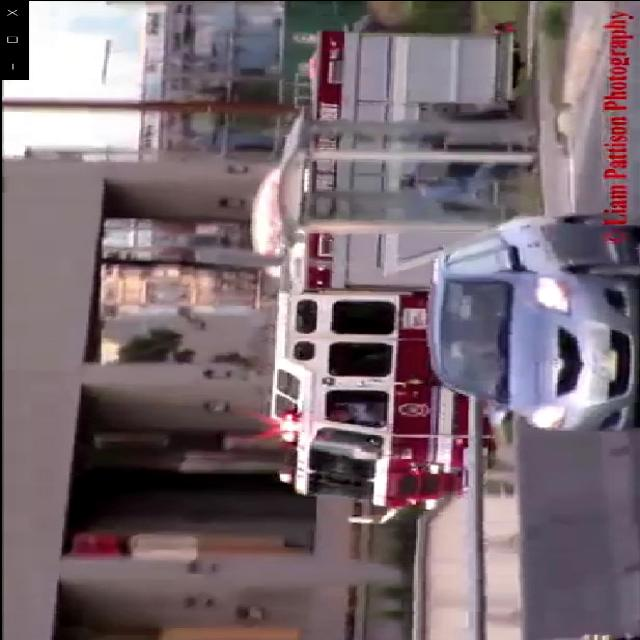emergency: (270, 25, 532, 508)
